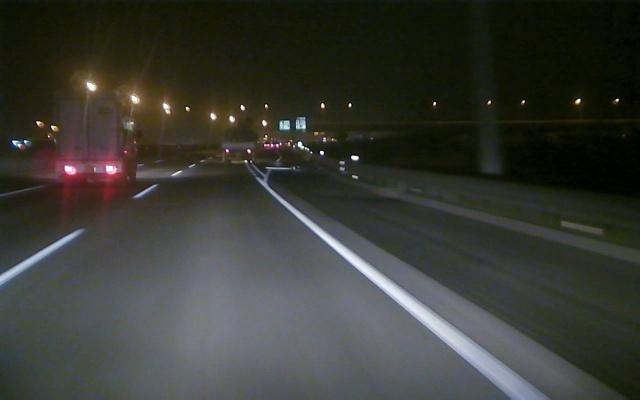lane: (264, 188, 549, 399), (1, 182, 160, 286)
